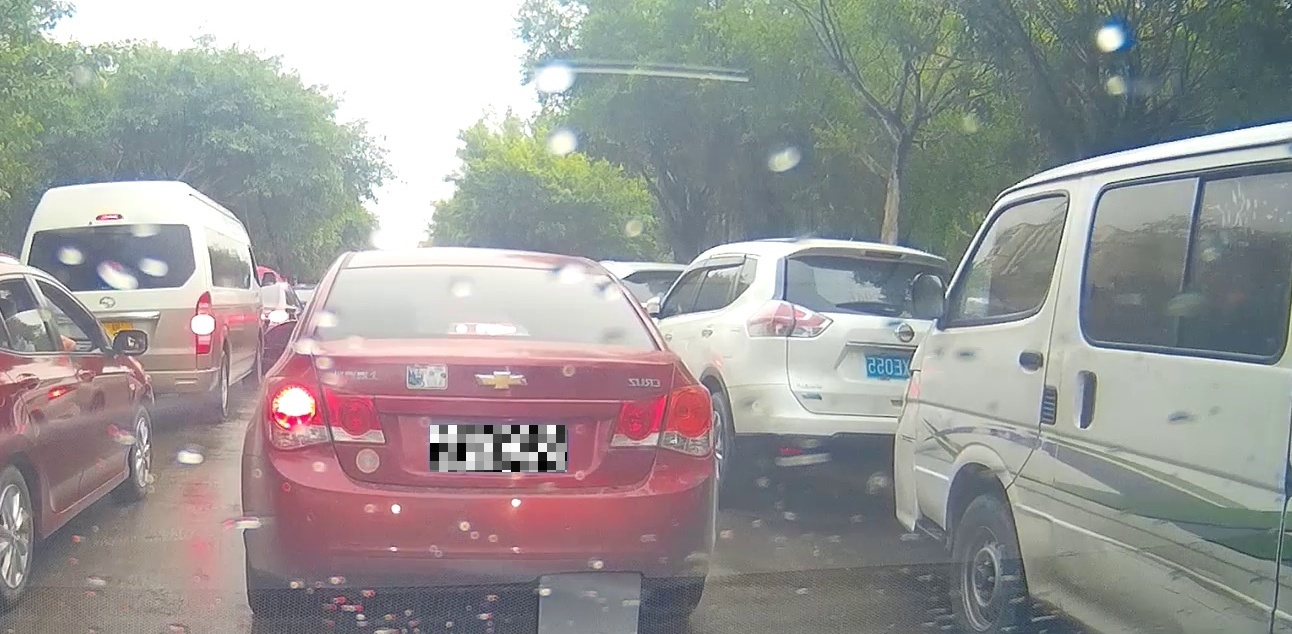L_light: (261, 376, 387, 450)
R_light: (608, 385, 714, 457)
T_light: (450, 323, 521, 335)
day-left: (240, 247, 717, 618)
plate_1: (430, 425, 567, 472)
